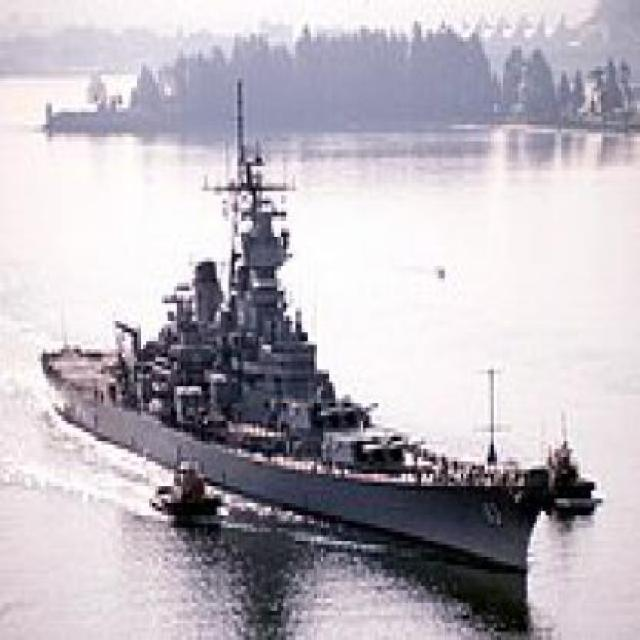warship2: (28, 84, 549, 600)
